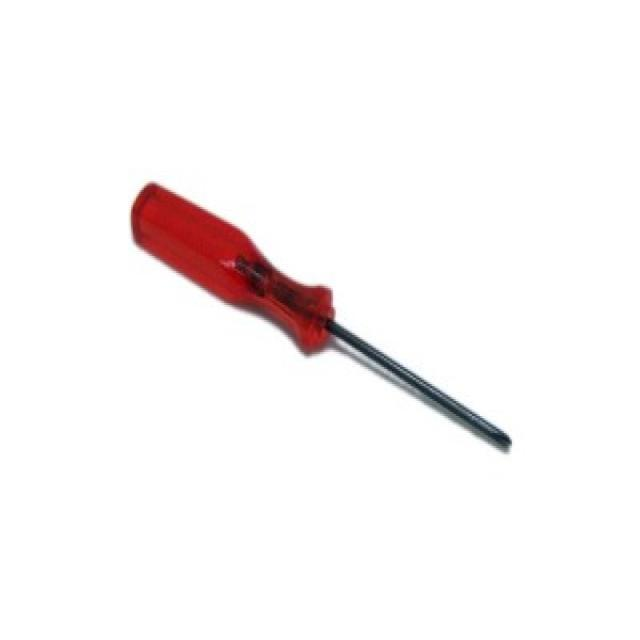screwdriver: (112, 157, 524, 482)
